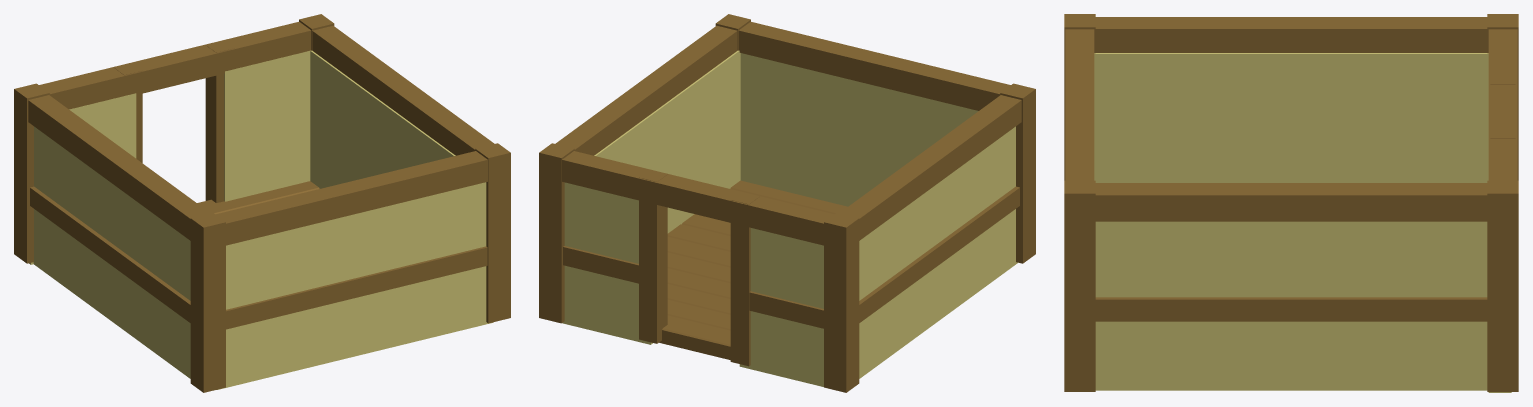
File: House2.fbx
The picture shows the model from 3 angles, left to right: view 1: azimuth 30°, elevation 25°; view 2: azimuth 150°, elevation 25°; view 3: azimuth 270°, elevation 25°; orthographic projection. The views are drawn at different scales.
Parts seen in each view (by area): view 1: Cube.019, Cube.018, Cube.021, Cube.008, Cube.007, Cube.009, Cube.010, Cube.003, Cube.015, Cube.004, Cube.014, Cube.001 (+4 smaller); view 2: Cube.018, Cube.019, Cube, Cube.021, Cube.022, Cube.008, Cube.007, Cube.009, Cube.010, Cube.001, Cube.002, Cube.006 (+5 smaller); view 3: Cube.018, Cube.010, Cube.009, Cube.014, Cube.002, Cube.004, Cube.008, Cube.007, Cube.001, Cube.003.
Part boxes in pixels (x1,y1,x2,y2): Cube.019: (217, 182, 493, 389); Cube.018: (33, 50, 455, 378); Cube.021: (224, 51, 310, 201); Cube.008: (216, 151, 487, 245); Cube.007: (39, 22, 311, 109); Cube.009: (28, 95, 210, 240); Cube.010: (312, 25, 494, 155); Cube.003: (190, 212, 225, 392); Cube.015: (226, 246, 487, 329); Cube.004: (475, 143, 510, 323); Cube.014: (30, 186, 190, 322); Cube.001: (14, 83, 49, 263); Cube.018: (594, 50, 1017, 378); Cube.019: (740, 53, 978, 206); Cube: (659, 180, 847, 359); Cube.021: (562, 182, 652, 344); Cube.022: (739, 228, 823, 386); Cube.008: (738, 22, 1010, 110); Cube.007: (562, 151, 833, 245); Cube.009: (839, 95, 1021, 240); Cube.010: (555, 25, 737, 155); Cube.001: (824, 212, 859, 392); Cube.002: (539, 143, 574, 323); Cube.006: (639, 170, 667, 343); Cube.018: (1094, 53, 1488, 390); Cube.010: (1095, 183, 1487, 221); Cube.009: (1095, 17, 1487, 52); Cube.014: (1095, 297, 1487, 321); Cube.002: (1487, 180, 1518, 391); Cube.004: (1064, 180, 1095, 391); Cube.008: (1065, 29, 1094, 180); Cube.007: (1488, 29, 1517, 180); Cube.001: (1487, 14, 1518, 180); Cube.003: (1064, 14, 1095, 180).
Size of the model in its own units: 286 by 149 by 305.
